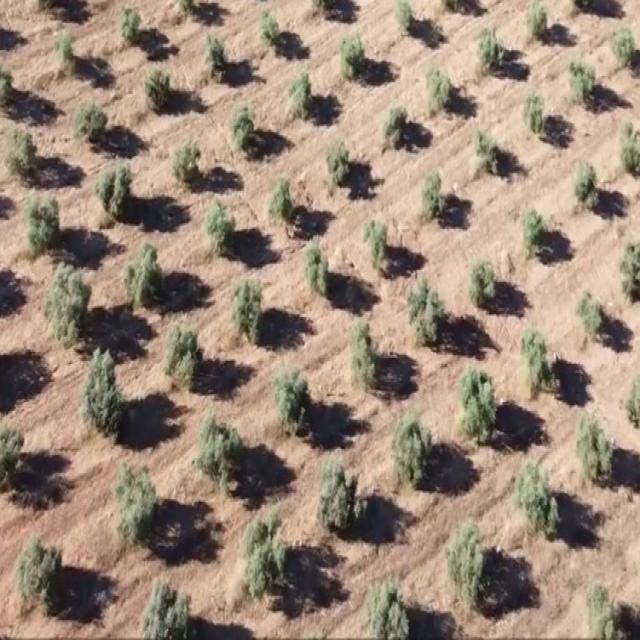trees: (440, 515, 498, 624), (311, 448, 367, 558), (234, 503, 291, 607), (74, 339, 127, 441), (42, 263, 96, 357), (114, 453, 164, 554), (512, 456, 568, 545), (11, 536, 62, 626), (194, 413, 247, 497), (388, 407, 436, 498), (456, 360, 505, 449), (571, 404, 622, 487), (345, 302, 387, 395), (361, 569, 417, 638), (403, 276, 450, 356), (164, 324, 210, 402), (123, 238, 168, 317), (135, 580, 194, 638), (520, 318, 562, 398), (272, 363, 316, 439), (20, 192, 64, 260), (227, 274, 266, 346), (94, 164, 138, 227), (512, 198, 556, 260), (0, 120, 40, 186), (264, 175, 304, 239), (469, 118, 508, 182), (70, 99, 114, 152), (466, 255, 501, 320), (562, 57, 602, 113), (202, 198, 239, 258), (300, 239, 334, 302), (168, 136, 207, 190), (574, 285, 606, 350), (362, 215, 396, 275), (198, 36, 237, 86), (475, 21, 509, 77), (609, 21, 640, 79), (617, 236, 640, 314), (519, 84, 550, 140), (570, 156, 599, 215), (323, 134, 353, 191), (141, 64, 174, 115), (0, 418, 24, 488), (617, 114, 640, 187), (425, 66, 459, 115), (228, 102, 260, 154), (418, 166, 447, 223), (620, 365, 640, 441), (288, 69, 316, 123), (339, 30, 368, 82), (115, 3, 146, 48), (522, 0, 552, 44), (53, 31, 81, 77), (257, 8, 284, 52), (383, 101, 409, 144), (393, 0, 418, 33)
